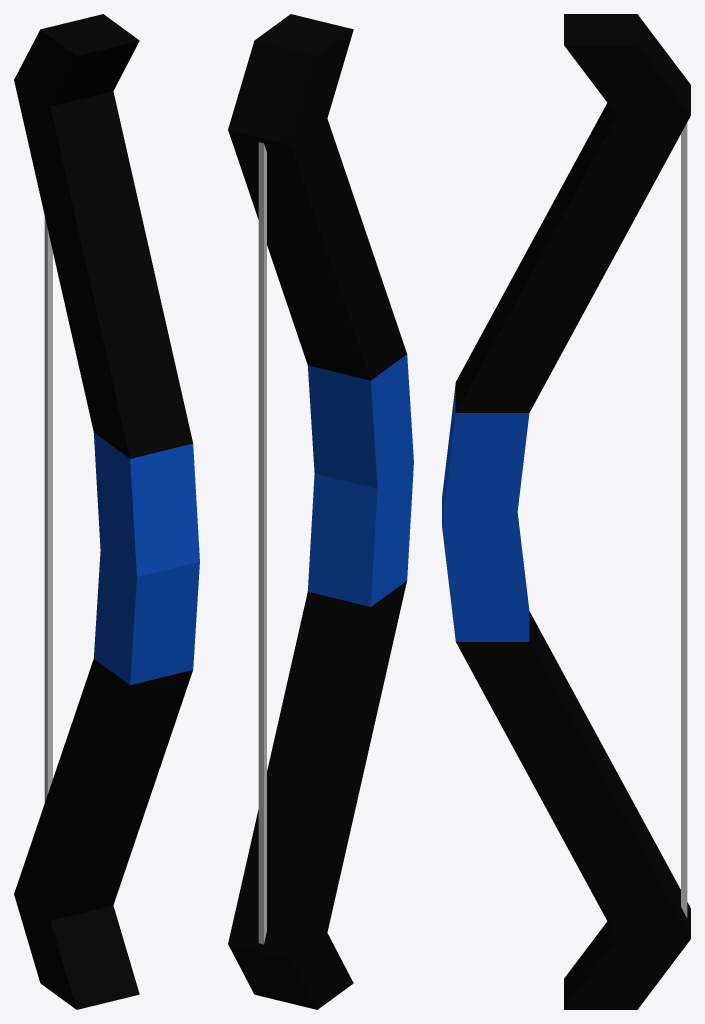
The model's file is archery_bow.obj.
3 views of the same model, side by side, from view 1: azimuth 30°, elevation 25°; view 2: azimuth 150°, elevation 25°; view 3: azimuth 270°, elevation 25° (orthographic).
Parts seen in each view (by area): view 1: Plane, Cube_Cube.001; view 2: Plane, Cube_Cube.001; view 3: Plane, Cube_Cube.001.
Boxes of the visible parts, left/top/right/bottom form: Plane: left=14, top=14, right=199, bottom=1009; Cube_Cube.001: left=44, top=216, right=52, bottom=802; Plane: left=228, top=14, right=413, bottom=1009; Cube_Cube.001: left=258, top=142, right=266, bottom=944; Plane: left=442, top=14, right=690, bottom=1009; Cube_Cube.001: left=681, top=123, right=687, bottom=917.
Bounding box in the file's own units: 2 × 28.92 × 6.76.
